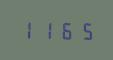five: (75, 20, 93, 40)
one: (18, 19, 36, 39), (37, 19, 55, 39)
six: (56, 20, 74, 40)
